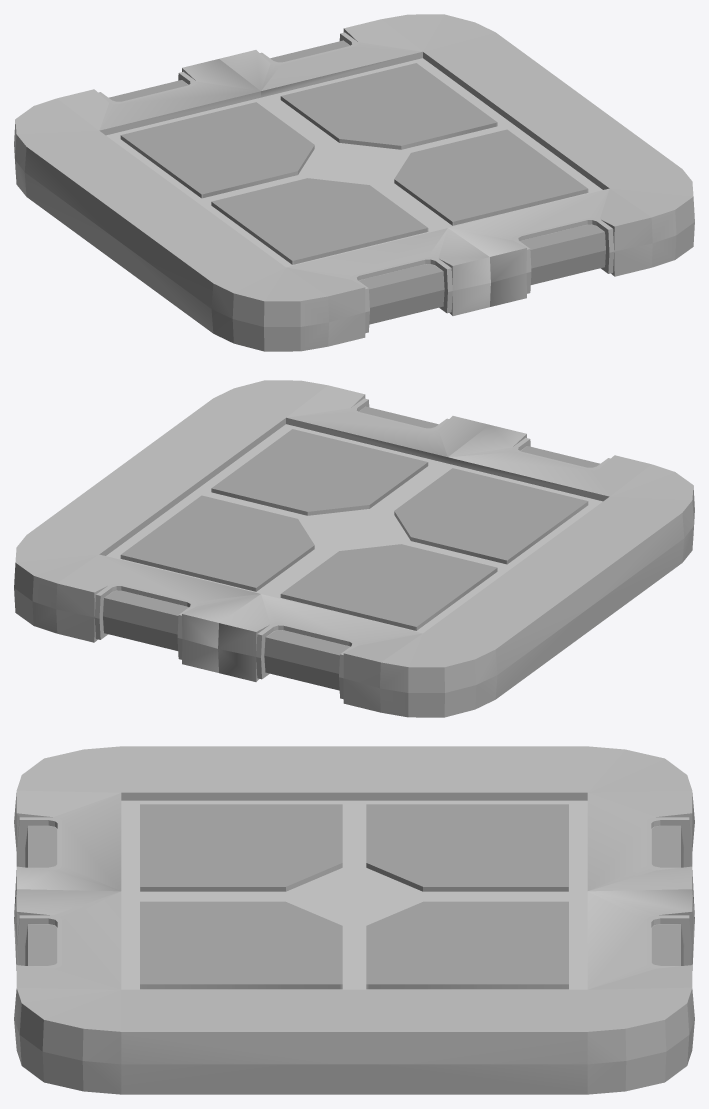
File: Platform_3.FBX
3 views of the same model, one above another, from view 1: azimuth 30°, elevation 25°; view 2: azimuth 150°, elevation 25°; view 3: azimuth 270°, elevation 25° (orthographic). The views are drawn at different scales.
Parts seen in each view (by area): view 1: Platform; view 2: Platform; view 3: Platform.
Boxes of the visible parts, box(x1,y1,x2,y2) form: Platform: box(14, 14, 694, 351); Platform: box(14, 380, 694, 717); Platform: box(14, 746, 694, 1094).
Bounding box in the file's own units: 528 × 53.62 × 528.
2 materials, 1 textured.
